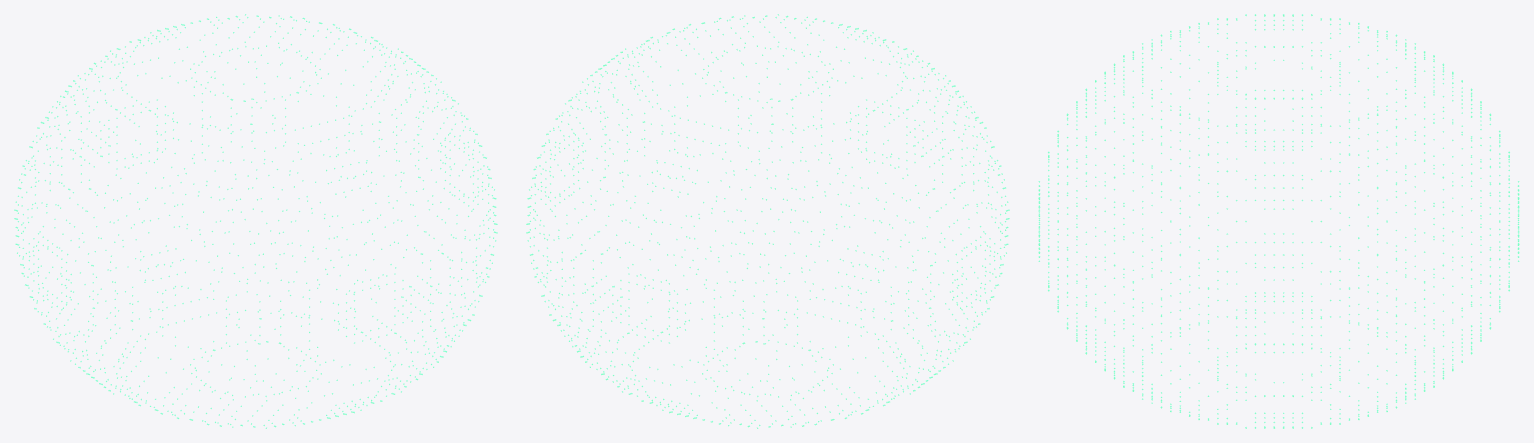
The model's file is orbital_n2_l1_m1_complex_point_cloud.fbx.
3 views of the same model, side by side, from view 1: azimuth 30°, elevation 25°; view 2: azimuth 150°, elevation 25°; view 3: azimuth 270°, elevation 25° (orthographic).
Visible parts, largest first — view 1: orbital_n2_l1_m1_complex_point_cloud; view 2: orbital_n2_l1_m1_complex_point_cloud; view 3: orbital_n2_l1_m1_complex_point_cloud.
Boxes of the visible parts, x1,y1,x2,y2 form: orbital_n2_l1_m1_complex_point_cloud: (14,14,497,428); orbital_n2_l1_m1_complex_point_cloud: (526,14,1009,428); orbital_n2_l1_m1_complex_point_cloud: (1038,14,1519,428).
Size of the model in its own units: 1945 by 1337 by 1945.
